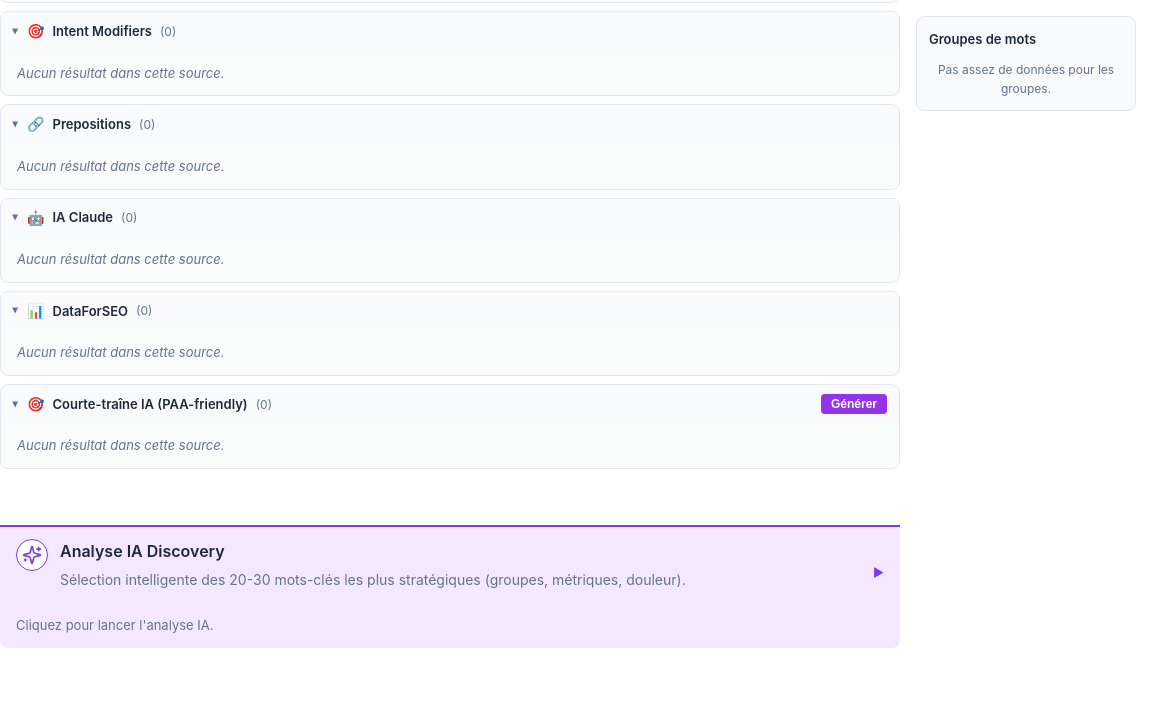
Test: DiscoveryPanel — analyse IA › bouton "Analyser" actif si hasResults + relevantCount > 0
(page scrolled)
Click the button with test id "ai-panel-toggle": (450, 573) left=16, top=539, right=884, bottom=607
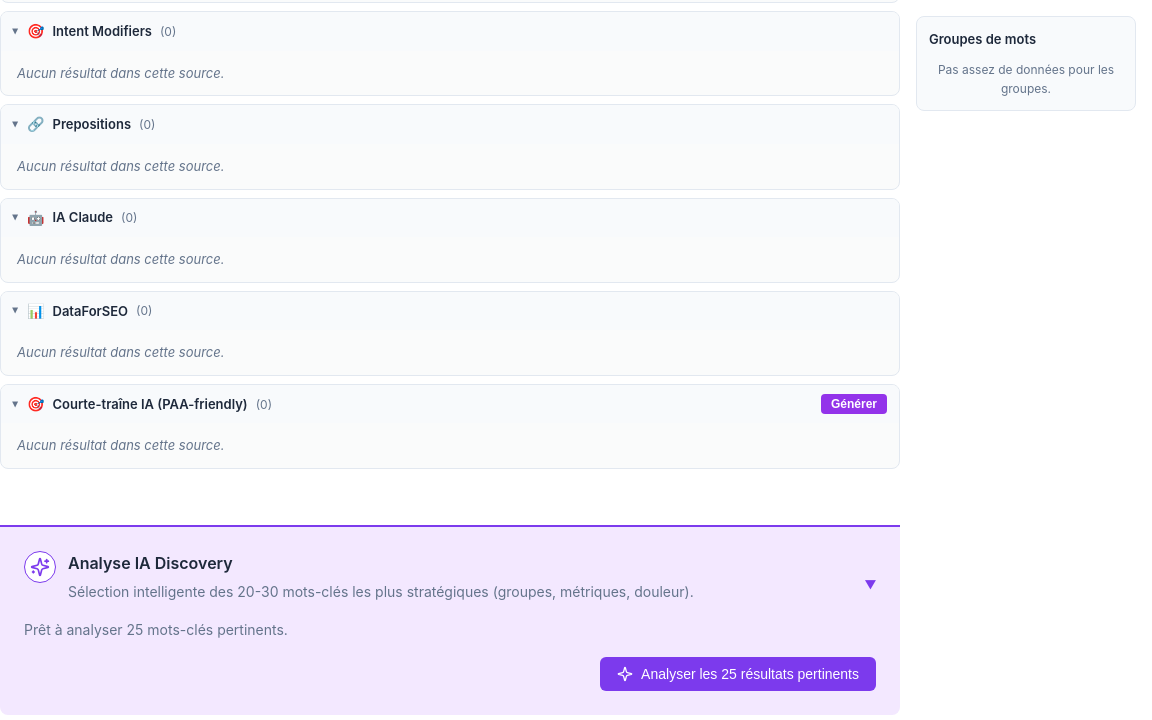
Check: the button with test id "ai-trigger-primary" is enabled, box left=600, top=658, right=876, bottom=692
